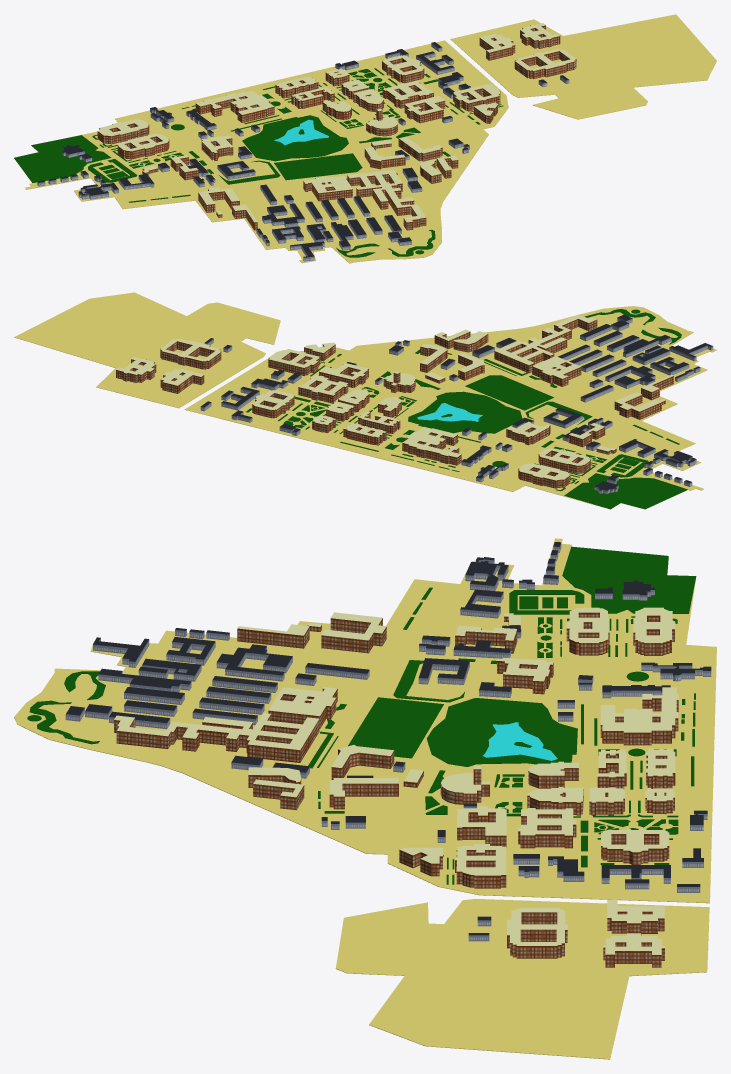
File: hongo.glb
3 views of the same model, one above another, from view 1: azimuth 30°, elevation 25°; view 2: azimuth 150°, elevation 25°; view 3: azimuth 270°, elevation 25° (orthographic). The views are drawn at different scales.
Parts seen in each view (by area): view 1: ground, volume-new, green, volume-low, water; view 2: ground, volume-new, volume-low, green, water; view 3: ground, volume-new, volume-low, green, water.
Boxes of the visible parts, x1=… form: ground: x1=15, y1=14, x2=716, y2=263; volume-new: x1=97, y1=23, x2=576, y2=230; green: x1=14, y1=68, x2=503, y2=257; volume-low: x1=37, y1=42, x2=569, y2=261; water: x1=274, y1=119, x2=328, y2=145; ground: x1=14, y1=292, x2=716, y2=509; volume-new: x1=116, y1=315, x2=673, y2=488; volume-low: x1=200, y1=315, x2=713, y2=494; green: x1=246, y1=309, x2=687, y2=509; water: x1=417, y1=403, x2=482, y2=421; ground: x1=14, y1=538, x2=716, y2=1059; volume-new: x1=114, y1=607, x2=678, y2=967; volume-low: x1=65, y1=542, x2=711, y2=941; green: x1=27, y1=546, x2=696, y2=884; water: x1=483, y1=722, x2=557, y2=760.
Bounding box in the file's own units: 1302 × 32.5 × 743.
5 materials, 2 textured.
